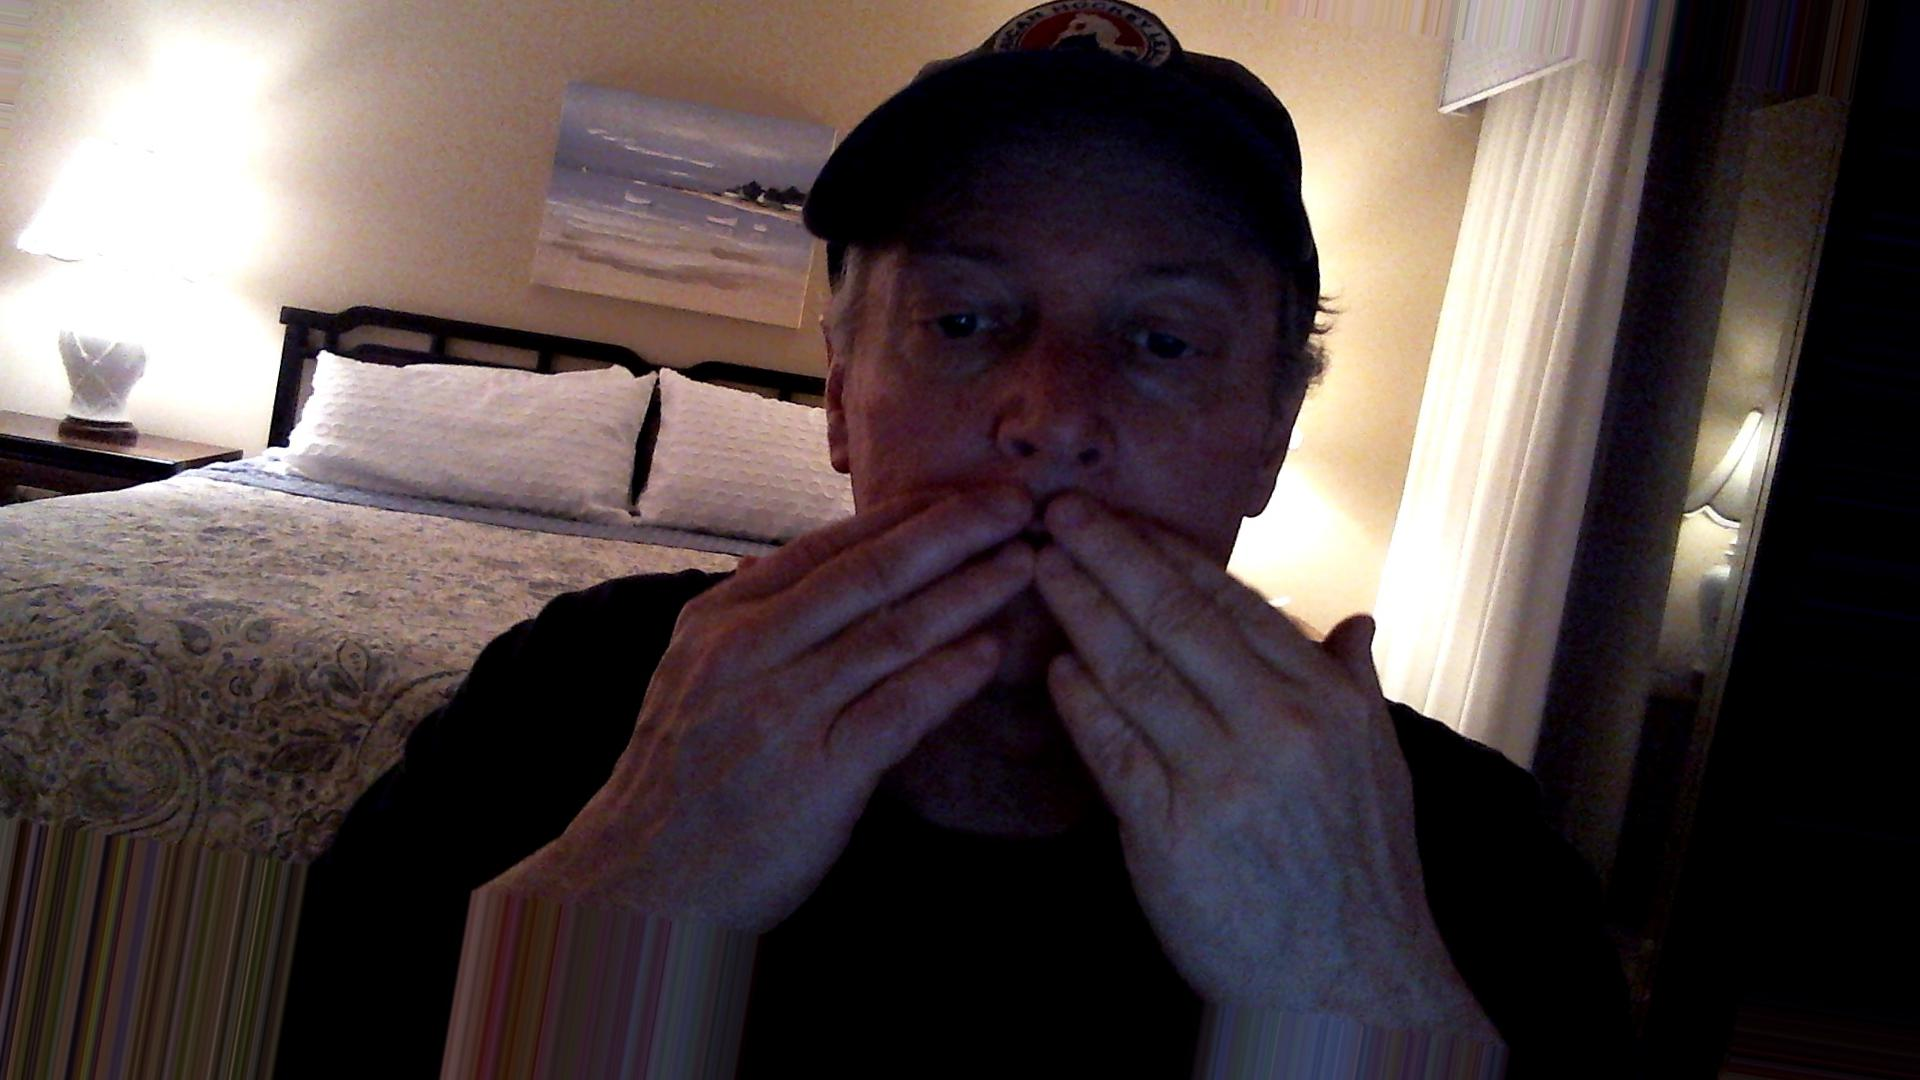Thank You: (564, 430, 1535, 944)
